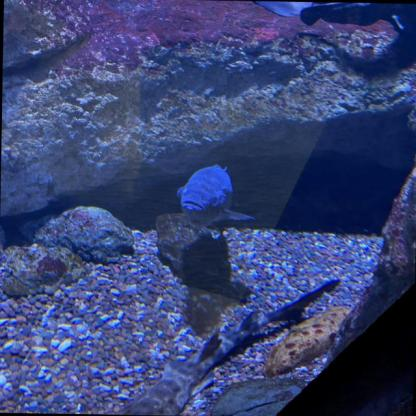fish: (179, 164, 255, 221)
shark: (105, 276, 338, 416), (244, 1, 415, 31)
